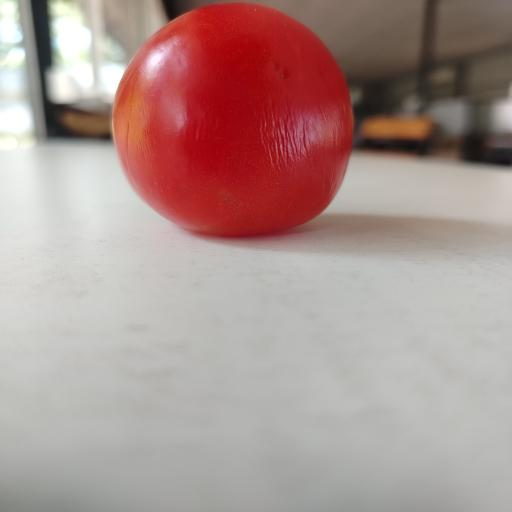overipe: (113, 3, 352, 235)
